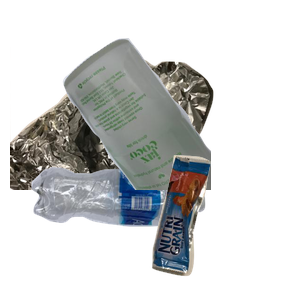glass: (60, 36, 300, 216)
metal: (10, 47, 216, 227)
plastic: (29, 165, 227, 300)
trash: (149, 152, 300, 300)
